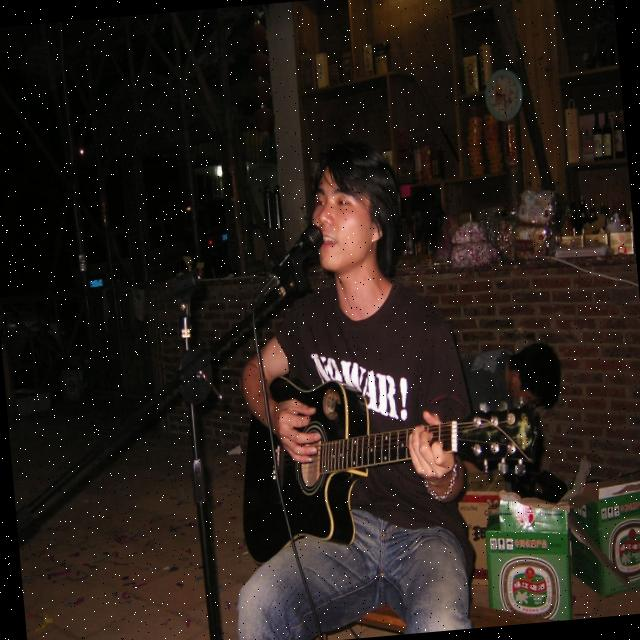guitar: (228, 352, 553, 569)
